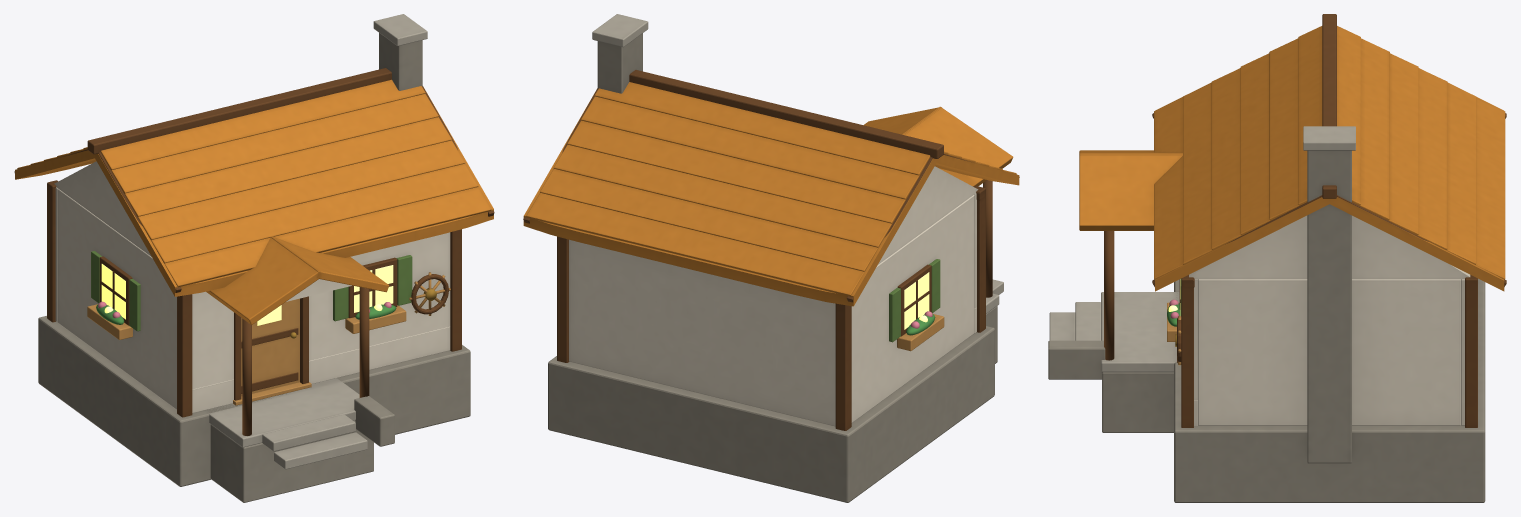
Rendered from house_neighbor_east.glb.
3 views of the same model, side by side, from view 1: azimuth 30°, elevation 25°; view 2: azimuth 150°, elevation 25°; view 3: azimuth 270°, elevation 25° (orthographic). The views are drawn at different scales.
Parts seen in each view (by area): view 1: Foundation_Base, Wall_Left, ShingleRow_-1_2, ShingleRow_-1_4, ShingleRow_-1_3, ShingleRow_-1_1, ShingleRow_-1_0, ShingleRow_-1_5, Wall_FrontRight_Upper, Vest_Plinth, H3_Roof, Vest_Deck (+31 smaller); view 2: Foundation_Base, Wall_Back, Wall_Left, ShingleRow_1_0, ShingleRow_1_3, ShingleRow_1_4, ShingleRow_1_2, ShingleRow_1_1, ShingleRow_1_5, H3_Roof, Roof_RidgeBeam, Vest_HoodRoof_-1 (+12 smaller); view 3: Wall_Right, Foundation_Base, GableChimney, H3_Gables, Vest_HoodRoof_1, ShingleRow_-1_3, ShingleRow_-1_2, ShingleRow_-1_4, ShingleRow_1_2, ShingleRow_1_1, ShingleRow_1_0, Vest_Deck (+18 smaller).
Boxes of the visible parts, x1,y1,x2,y2 form: Foundation_Base: (38,316,470,486); Wall_Left: (58,189,176,409); ShingleRow_-1_2: (136,140,464,239); ShingleRow_-1_4: (110,93,438,193); ShingleRow_-1_3: (123,117,451,216); ShingleRow_-1_1: (151,163,478,263); ShingleRow_-1_0: (164,187,491,287); ShingleRow_-1_5: (100,79,425,169); Wall_FrontRight_Upper: (309,232,450,360); Vest_Plinth: (210,420,373,502); H3_Roof: (15,92,493,296); Vest_Deck: (208,378,359,447); Foundation_Base: (548,326,994,502); Wall_Back: (569,239,835,426); Wall_Left: (851,195,974,422); ShingleRow_1_0: (526,192,864,296); ShingleRow_1_3: (567,120,905,223); ShingleRow_1_4: (581,96,919,199); ShingleRow_1_2: (553,144,891,247); ShingleRow_1_1: (540,168,878,271); ShingleRow_1_5: (594,82,930,175); H3_Roof: (523,88,1019,306); Roof_RidgeBeam: (629,70,943,158); Vest_HoodRoof_-1: (902,106,1013,186); Wall_Right: (1198,279,1460,425); Foundation_Base: (1174,278,1485,502); GableChimney: (1307,150,1351,463); H3_Gables: (1189,215,1470,279); Vest_HoodRoof_1: (1079,153,1182,230); ShingleRow_-1_3: (1240,53,1272,235); ShingleRow_-1_2: (1211,68,1243,250); ShingleRow_-1_4: (1269,38,1300,220); ShingleRow_1_2: (1415,68,1447,249); ShingleRow_1_1: (1446,83,1476,264); ShingleRow_1_0: (1476,98,1505,279); Vest_Deck: (1101,292,1179,372).
Size of the model in its own units: 5.16 by 5.09 by 5.72.
Materials: 3 (1 with a texture image).
